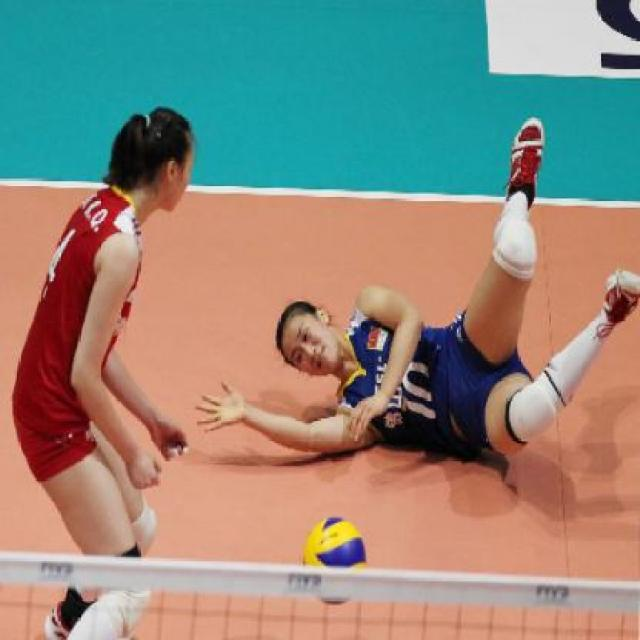fall: (202, 108, 622, 466)
